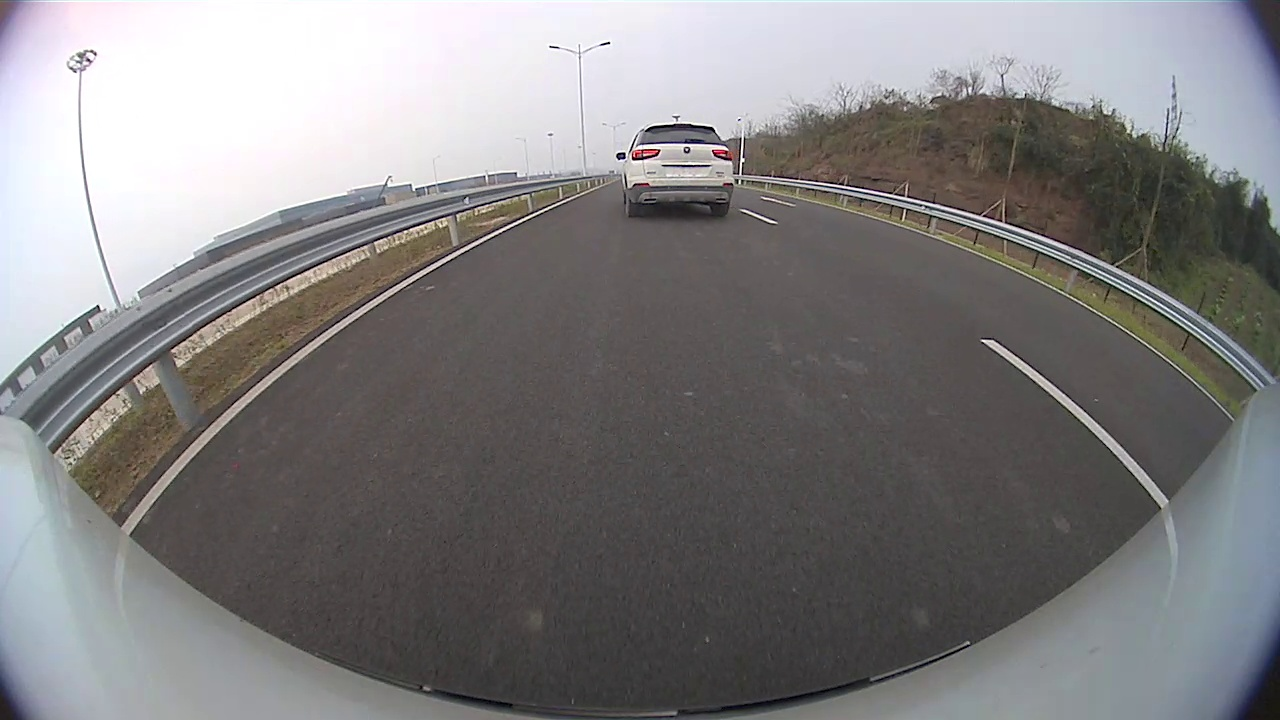car: (615, 123, 735, 218)
